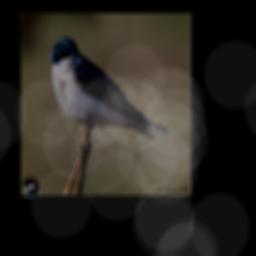Swallow: (50, 36, 171, 140)
